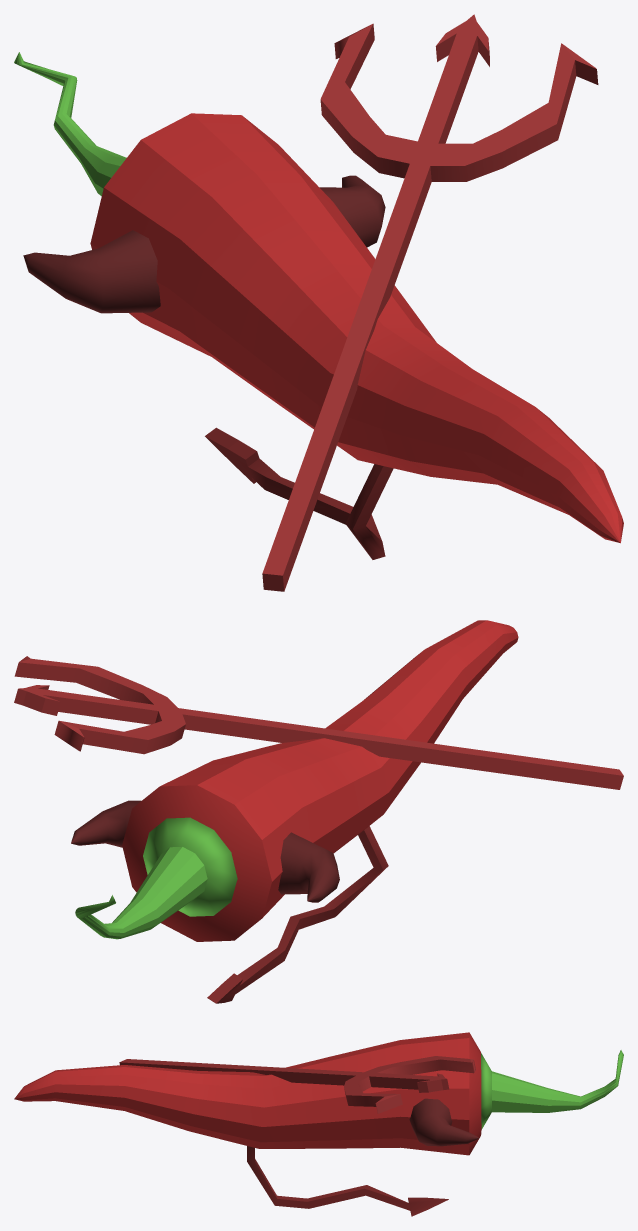
Rendered from Firey Doom.fbx.
3 renders of one model, top to bottom at view 1: azimuth 30°, elevation 25°; view 2: azimuth 150°, elevation 25°; view 3: azimuth 270°, elevation 25°, orthographic. The views are drawn at different scales.
Parts seen in each view (by area): view 1: hellapino:polySurface2; view 2: hellapino:polySurface2; view 3: hellapino:polySurface2.
Part boxes in pixels (bbox=[...]): hellapino:polySurface2: bbox=[14, 14, 623, 591]; hellapino:polySurface2: bbox=[14, 620, 623, 1003]; hellapino:polySurface2: bbox=[14, 1032, 623, 1216].
Bounding box in the file's own units: 4.42 × 2.83 × 7.69.
